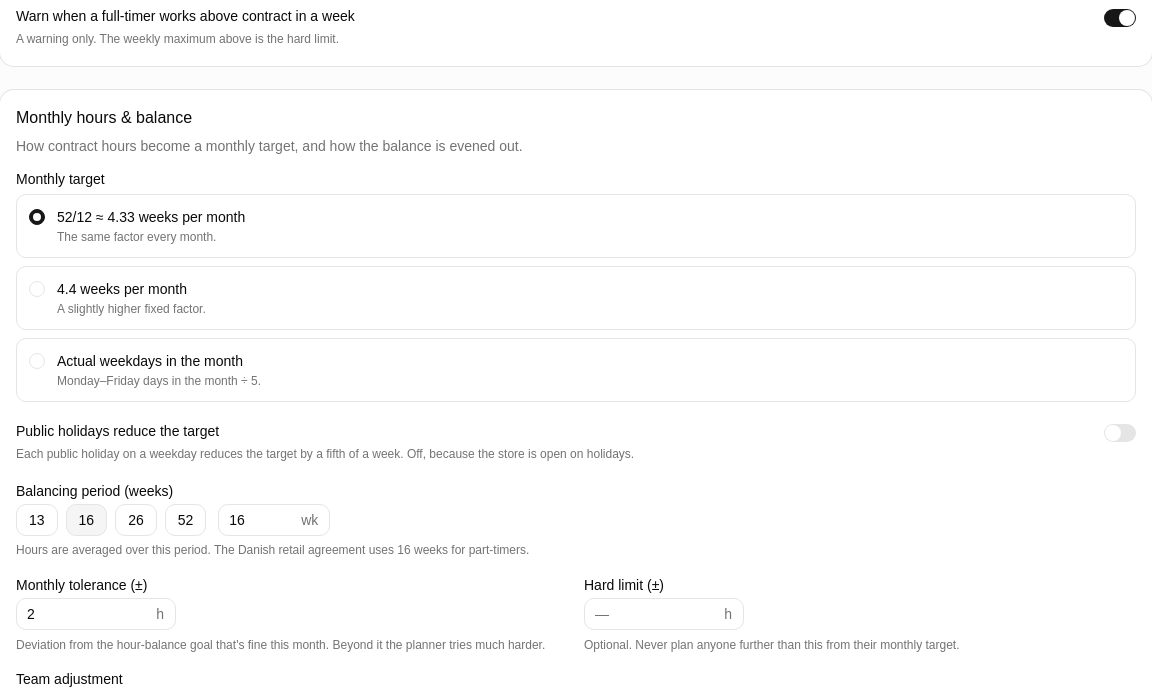
Scenario: AdvancedScreen › changes the monthly target mode and balancing period
(page scrolled)
Click the radio button named "Actual weekdays in the month" next to "Actual weekdays in the month": coordinates (37, 360) top-left (29, 352), bottom-right (45, 368)
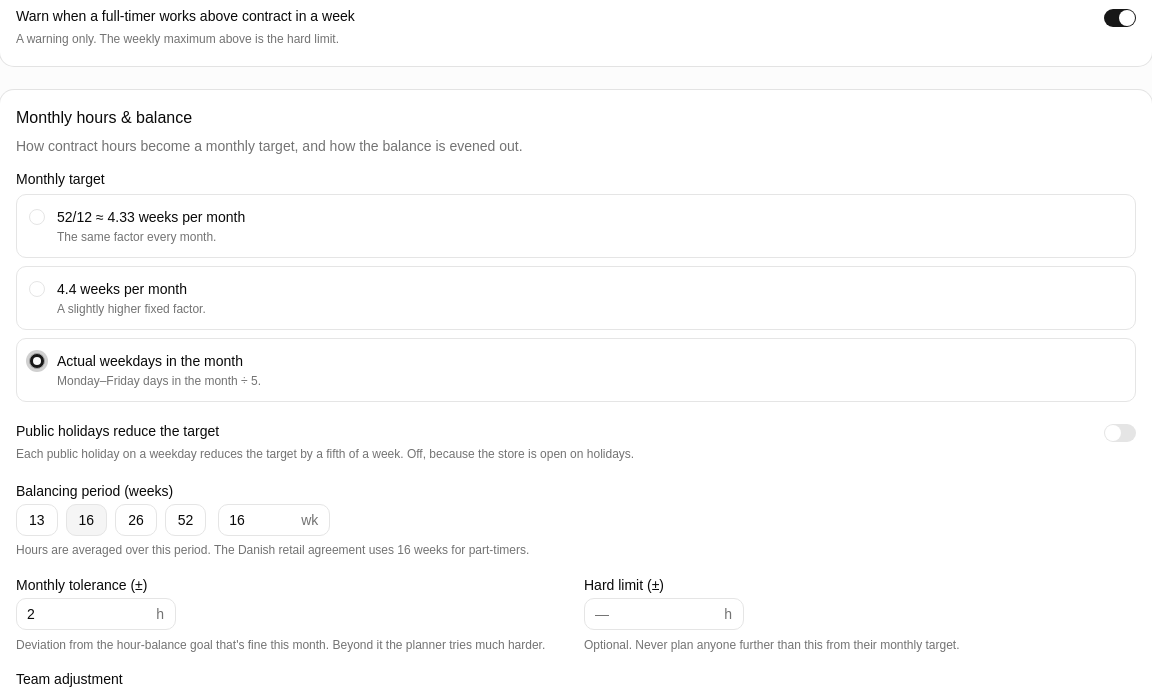
Click the radio button labelled "26": coordinates (136, 520) top-left (115, 504), bottom-right (157, 536)
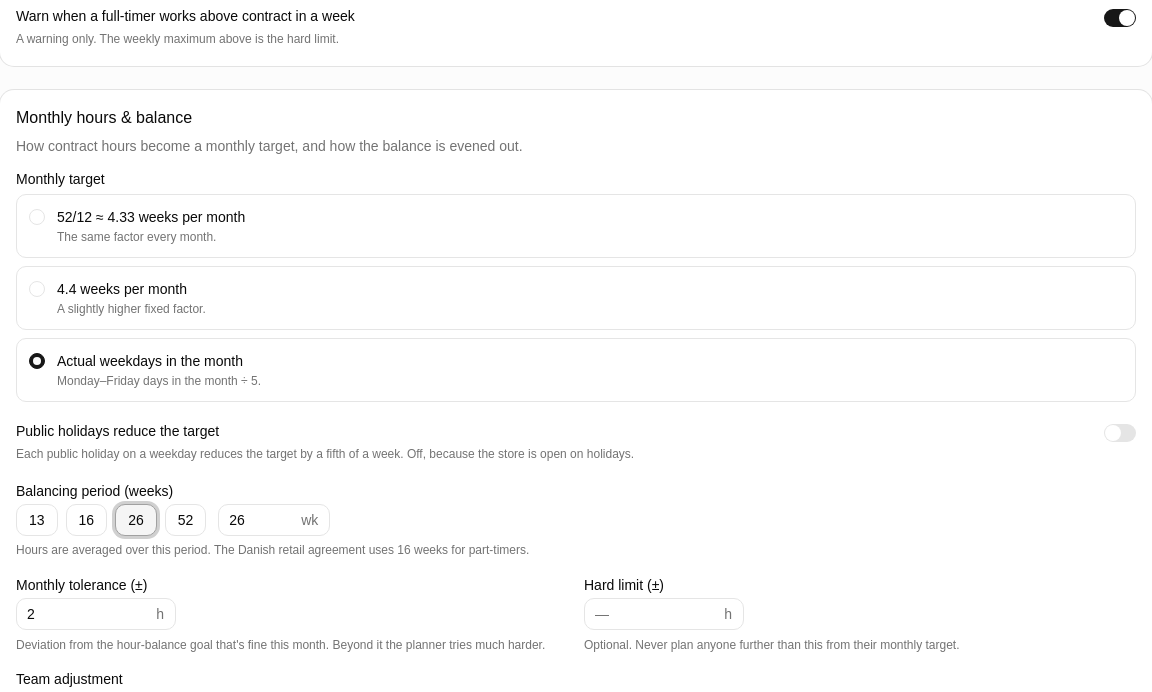
Now the field named "Custom number of weeks" holds "26", box top-left (218, 504), bottom-right (330, 536)
